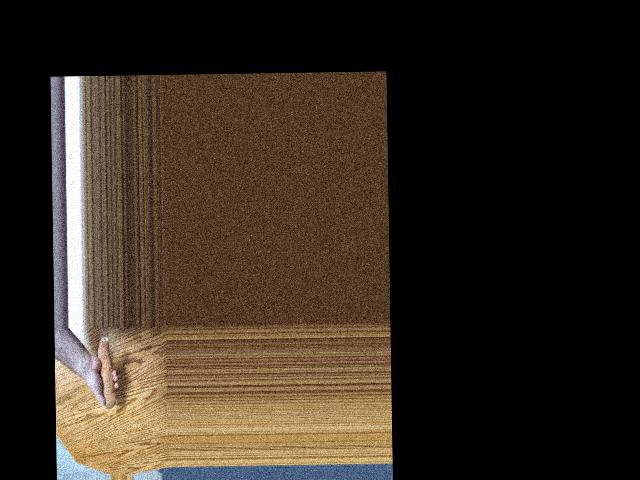sweet_potato: (92, 334, 117, 409)
